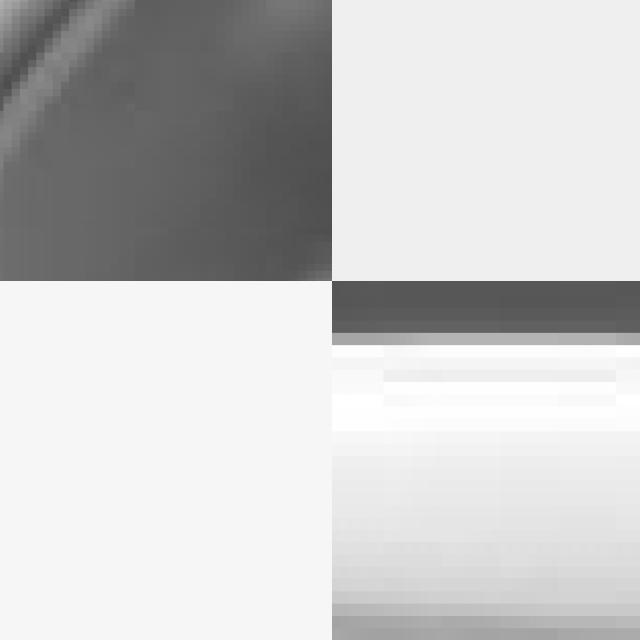spoons: (0, 0, 332, 281)
